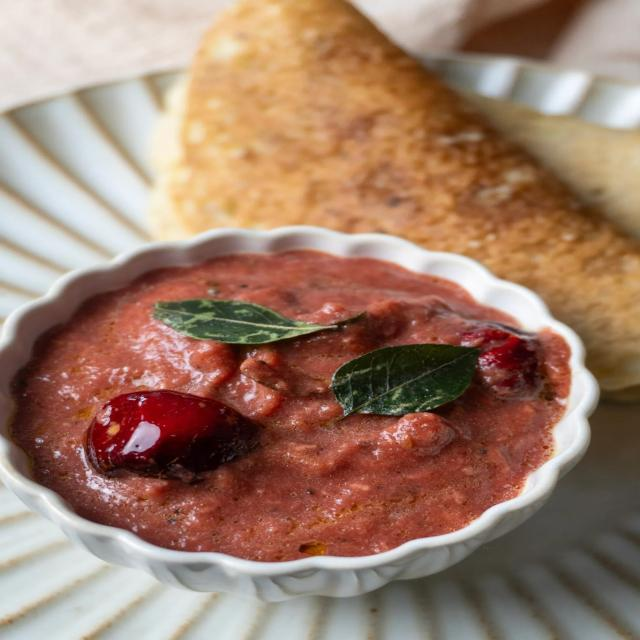kaara chutney: (7, 224, 585, 593)
